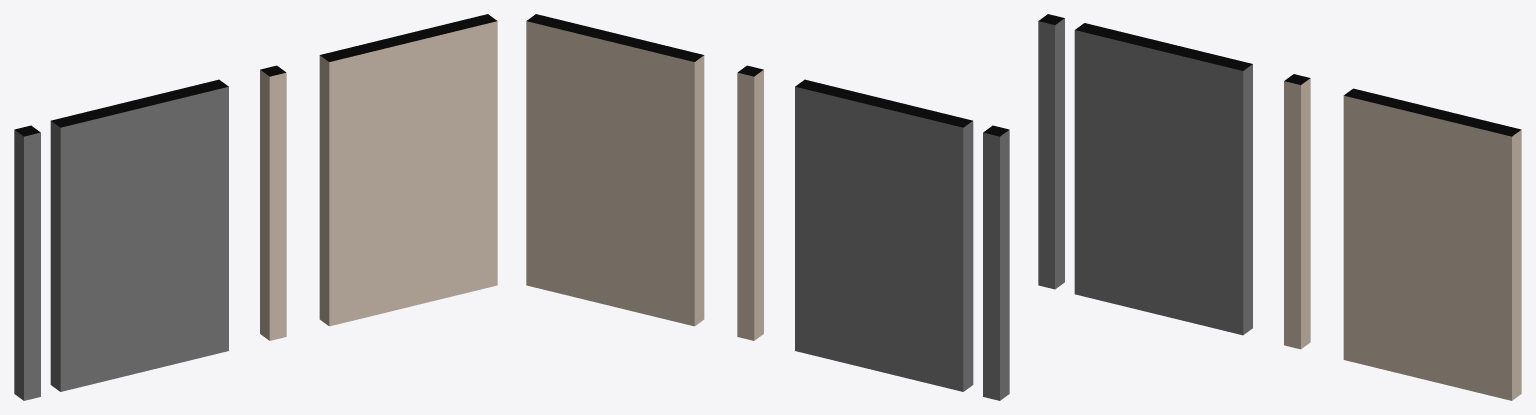
Rendered from FakeWall.glb.
3 renders of one model, left to right at view 1: azimuth 30°, elevation 25°; view 2: azimuth 150°, elevation 25°; view 3: azimuth 330°, elevation 25°, orthographic.
Visible parts, largest first — view 1: fake wall 002, fake wall 004, fake wall 003, fake wall 001; view 2: fake wall 002, fake wall 004, fake wall 003, fake wall 001; view 3: fake wall 002, fake wall 004, fake wall 003, fake wall 001.
Boxes of the visible parts, bbox=[...] form: fake wall 002: bbox=[50, 79, 228, 391]; fake wall 004: bbox=[319, 14, 497, 326]; fake wall 003: bbox=[260, 65, 286, 340]; fake wall 001: bbox=[14, 125, 40, 400]; fake wall 002: bbox=[795, 79, 973, 391]; fake wall 004: bbox=[526, 14, 704, 326]; fake wall 003: bbox=[737, 65, 763, 340]; fake wall 001: bbox=[983, 125, 1009, 400]; fake wall 002: bbox=[1074, 23, 1252, 335]; fake wall 004: bbox=[1343, 88, 1521, 400]; fake wall 003: bbox=[1284, 74, 1310, 349]; fake wall 001: bbox=[1038, 14, 1064, 289].
Bounding box in the file's own units: 2.81 × 1.5 × 0.1.
